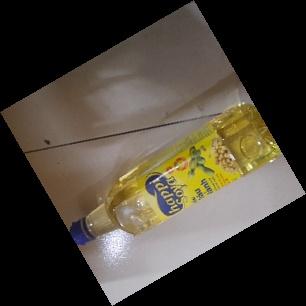Happy Soya: (69, 99, 285, 247)
